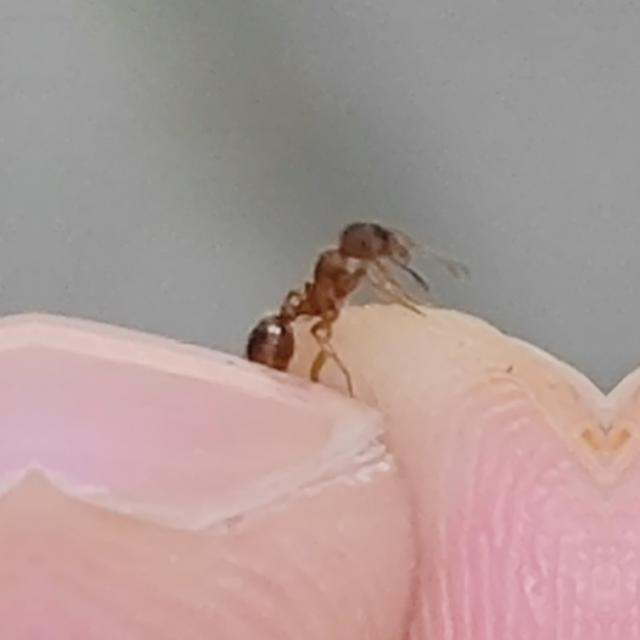Myrmica: (223, 182, 442, 402)
